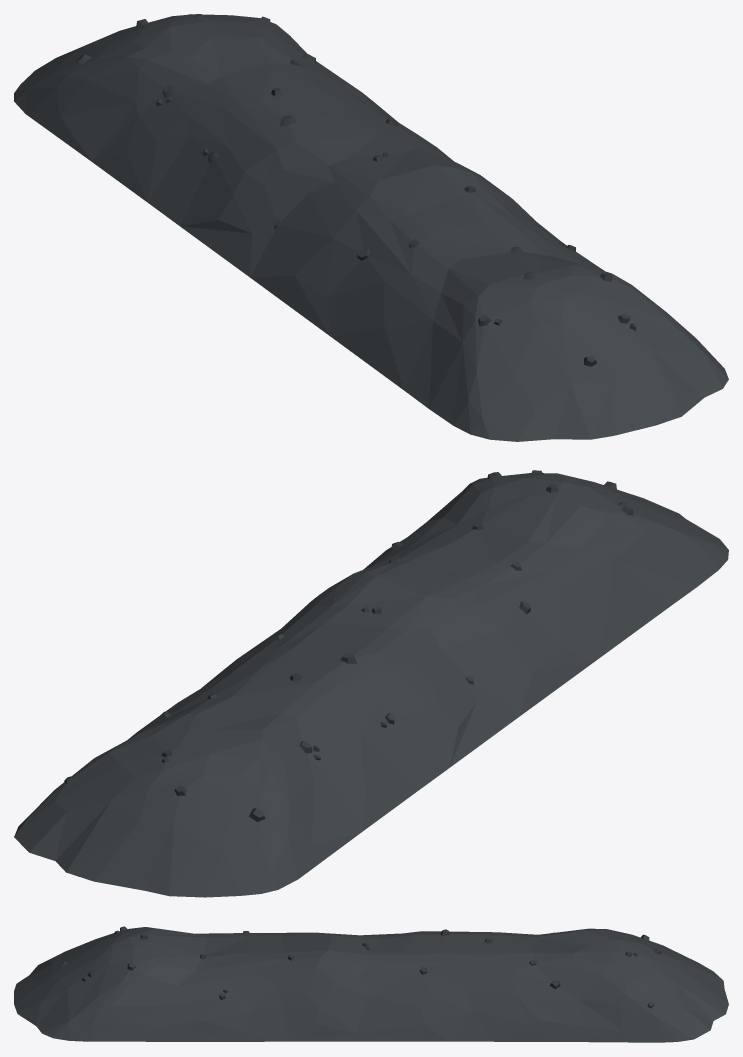
Rendered from SM_Veh_Barge_Tray_Dirt_01.fbx.
The picture shows the model from 3 angles, top to bottom: view 1: azimuth 30°, elevation 25°; view 2: azimuth 150°, elevation 25°; view 3: azimuth 270°, elevation 25°; orthographic projection. The views are drawn at different scales.
Visible parts, largest first — view 1: SM_Veh_Barge_Tray_Dirt_01; view 2: SM_Veh_Barge_Tray_Dirt_01; view 3: SM_Veh_Barge_Tray_Dirt_01.
Part boxes in pixels (box(x1,y1,x2,y2)): SM_Veh_Barge_Tray_Dirt_01: box(14, 14, 728, 441); SM_Veh_Barge_Tray_Dirt_01: box(14, 470, 728, 897); SM_Veh_Barge_Tray_Dirt_01: box(14, 926, 728, 1042).
Bounding box in the file's own units: 813 × 259 × 2783.
